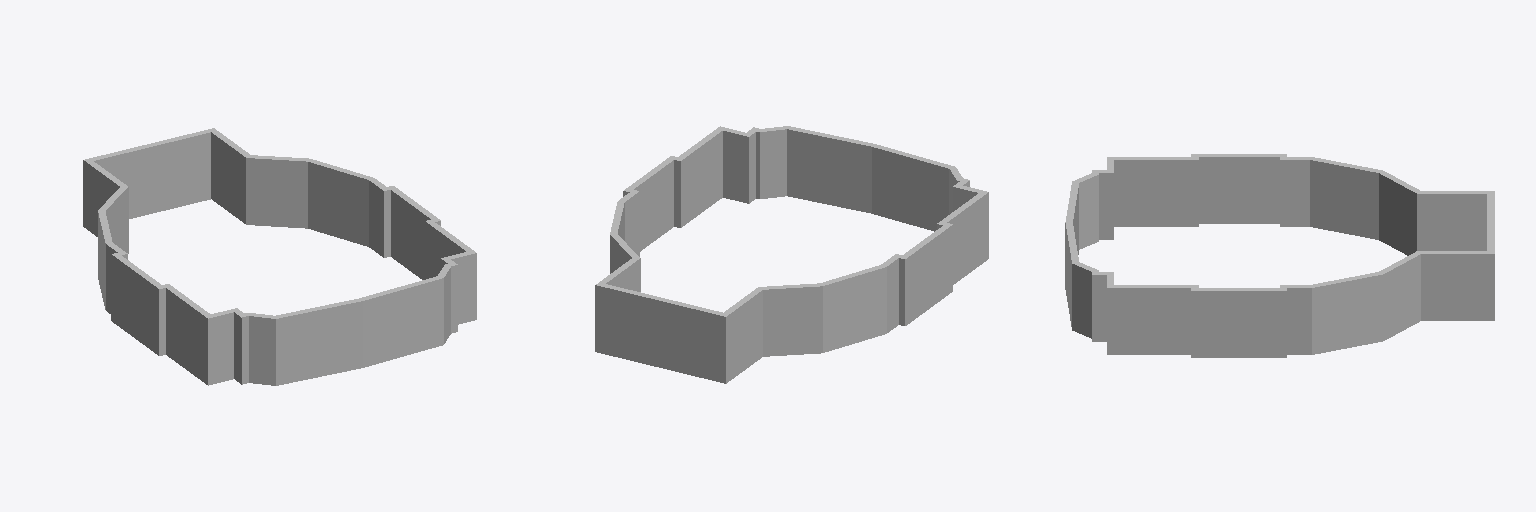
File: trainv5.obj
3 renders of one model, left to right at view 1: azimuth 30°, elevation 25°; view 2: azimuth 150°, elevation 25°; view 3: azimuth 270°, elevation 25°, orthographic.
Visible parts, largest first — view 1: scratch_v4; view 2: scratch_v4; view 3: scratch_v4.
Part boxes in pixels (x1,y1,x2,y2): scratch_v4: (83,128,476,385); scratch_v4: (595,126,988,383); scratch_v4: (1065,154,1494,357).
Size of the model in its own units: 0.132 by 0.03 by 0.174.